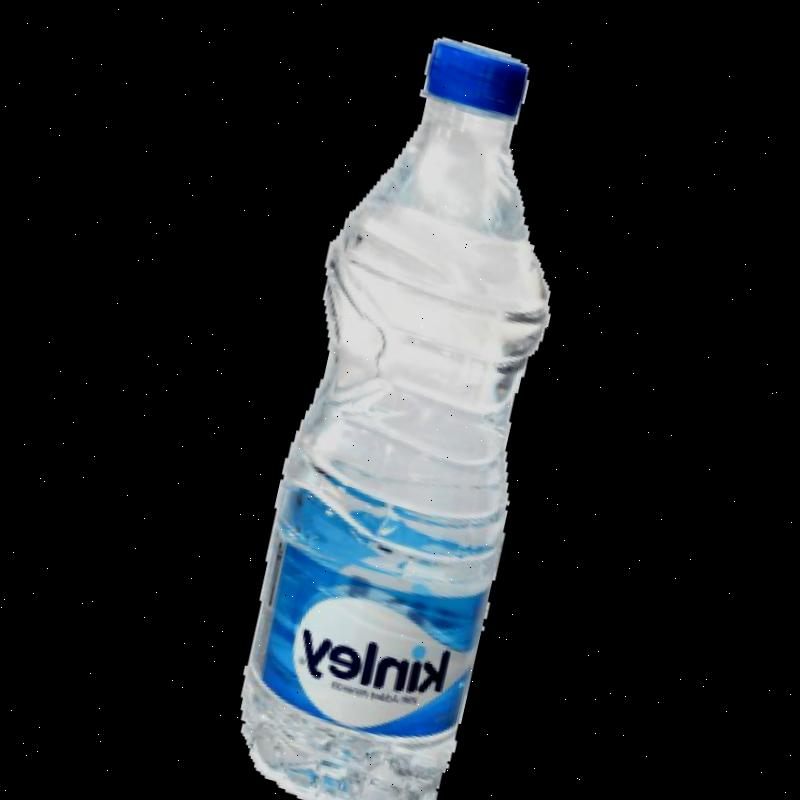botella: (199, 10, 616, 800)
